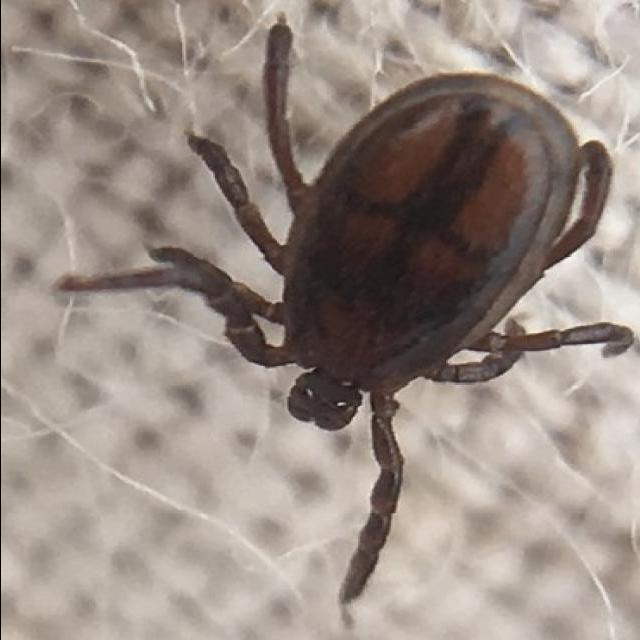Ixodes Ricinus-M: (50, 23, 633, 607)
